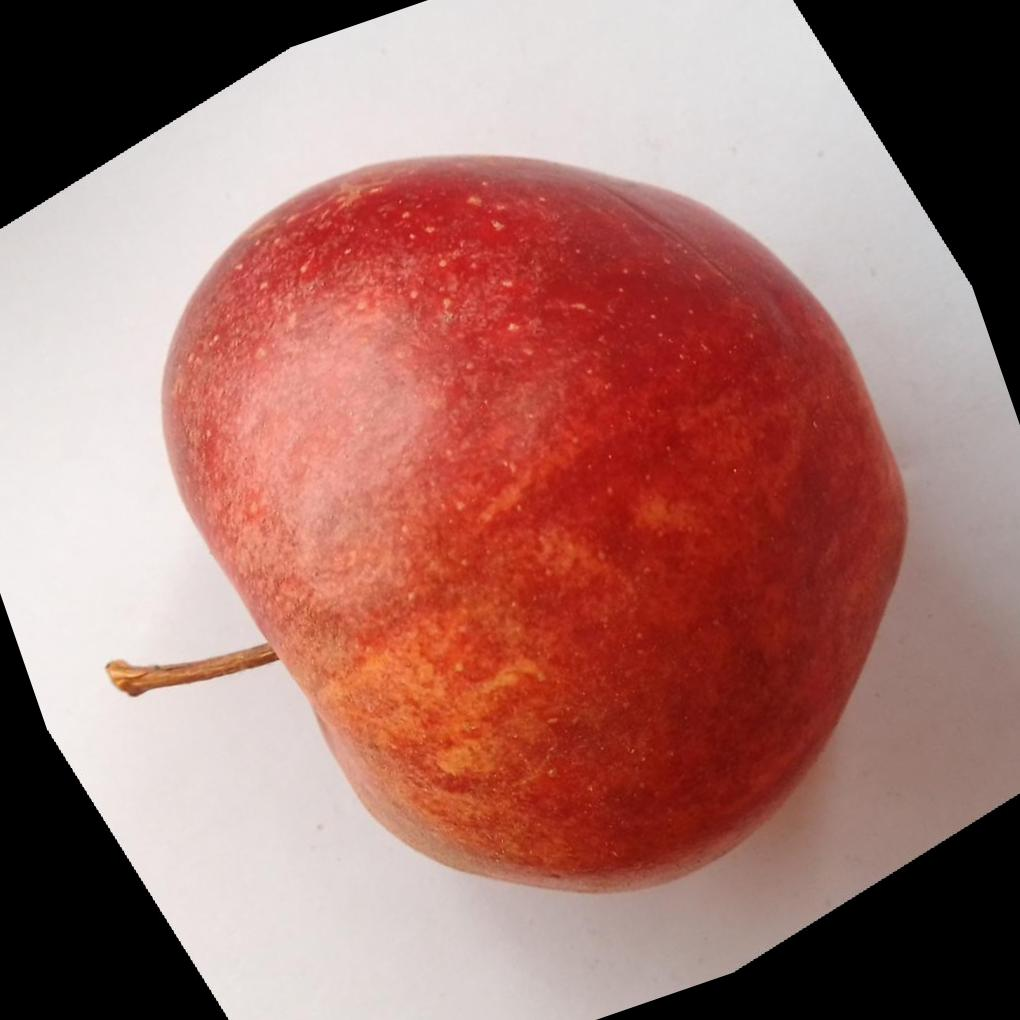FreshGuava: (157, 148, 908, 893)
